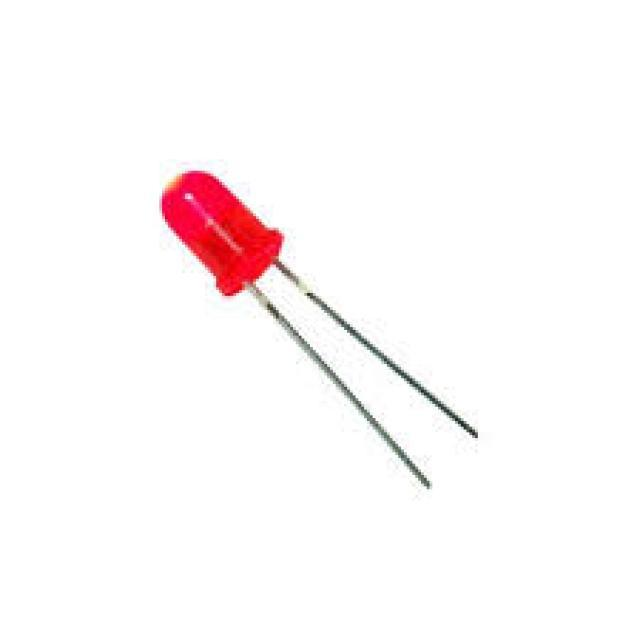Led: (162, 171, 478, 488)
